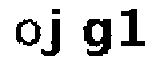1: (117, 7, 149, 51)
g: (80, 14, 112, 60)
j: (42, 7, 67, 60)
o: (10, 18, 43, 47)
